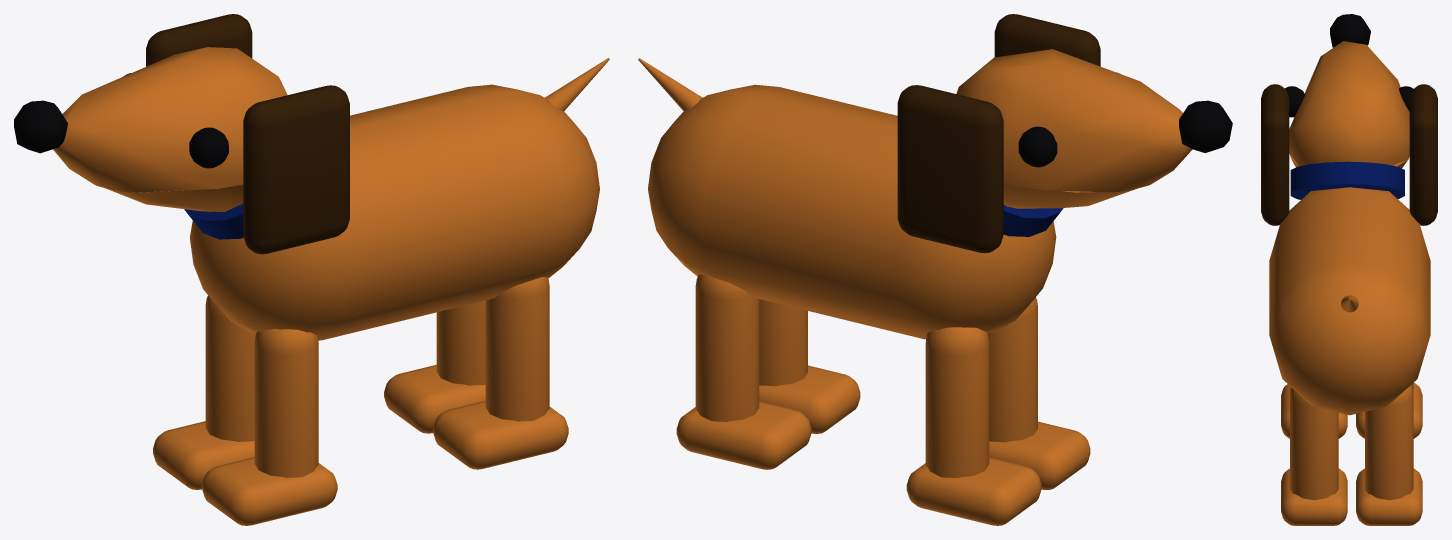
File: dog4.dae
The picture shows the model from 3 angles, left to right: view 1: azimuth 30°, elevation 25°; view 2: azimuth 150°, elevation 25°; view 3: azimuth 270°, elevation 25°; orthographic projection. The views are drawn at different scales.
Visible parts, largest first — view 1: Capsule010, Sphere010, ChamferBox007, Capsule011, Capsule014, Capsule013, ChamferBox008, ChamferBox013, ChamferBox010, ChamferBox014, Capsule015, ChamferBox012 (+5 smaller); view 2: Capsule010, Sphere010, ChamferBox012, Capsule013, Capsule015, ChamferBox014, ChamferBox010, Capsule011, Capsule014, ChamferBox008, ChamferBox013, ChamferBox007 (+5 smaller); view 3: Capsule010, Sphere010, Capsule015, Capsule014, ChamferBox007, ChamferBox012, Cylinder001, ChamferBox013, ChamferBox014, Sphere012, ChamferBox010, ChamferBox008 (+2 smaller).
Boxes of the visible parts, x1,y1,x2,y2 form: Capsule010: (190, 84, 599, 340); Sphere010: (53, 47, 287, 192); ChamferBox007: (243, 85, 349, 254); Capsule011: (254, 329, 318, 477); Capsule014: (485, 277, 549, 421); Capsule013: (205, 295, 255, 441); ChamferBox008: (202, 457, 337, 525); ChamferBox013: (433, 400, 568, 469); ChamferBox010: (153, 421, 254, 489); ChamferBox014: (384, 365, 485, 433); Capsule015: (436, 300, 485, 385); ChamferBox012: (146, 14, 252, 66); Capsule010: (648, 84, 1056, 339); Sphere010: (956, 49, 1192, 192); ChamferBox012: (897, 85, 1003, 253); Capsule013: (925, 327, 989, 477); Capsule015: (695, 274, 759, 421); ChamferBox014: (676, 401, 811, 469); ChamferBox010: (906, 457, 1041, 525); Capsule011: (987, 297, 1037, 442); Capsule014: (759, 299, 807, 386); ChamferBox008: (989, 421, 1090, 490); ChamferBox013: (759, 365, 860, 433); ChamferBox007: (994, 14, 1100, 66); Capsule010: (1269, 187, 1430, 415); Sphere010: (1289, 41, 1409, 166); Capsule015: (1365, 385, 1413, 500); Capsule014: (1290, 388, 1338, 500); ChamferBox007: (1261, 84, 1289, 225); ChamferBox012: (1409, 84, 1437, 225); Cylinder001: (1290, 161, 1404, 199); ChamferBox013: (1281, 468, 1347, 525); ChamferBox014: (1356, 468, 1422, 525); Sphere012: (1330, 14, 1370, 47); ChamferBox010: (1356, 383, 1422, 438); ChamferBox008: (1281, 384, 1347, 438).
Size of the model in its own units: 46.08 by 32.97 by 15.62.
